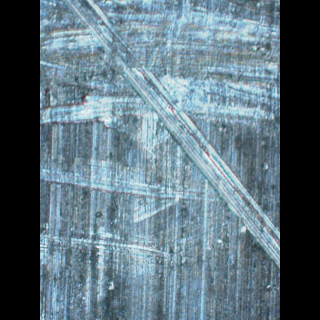d: (41, 0, 280, 126), (41, 154, 205, 290), (191, 142, 280, 276)
